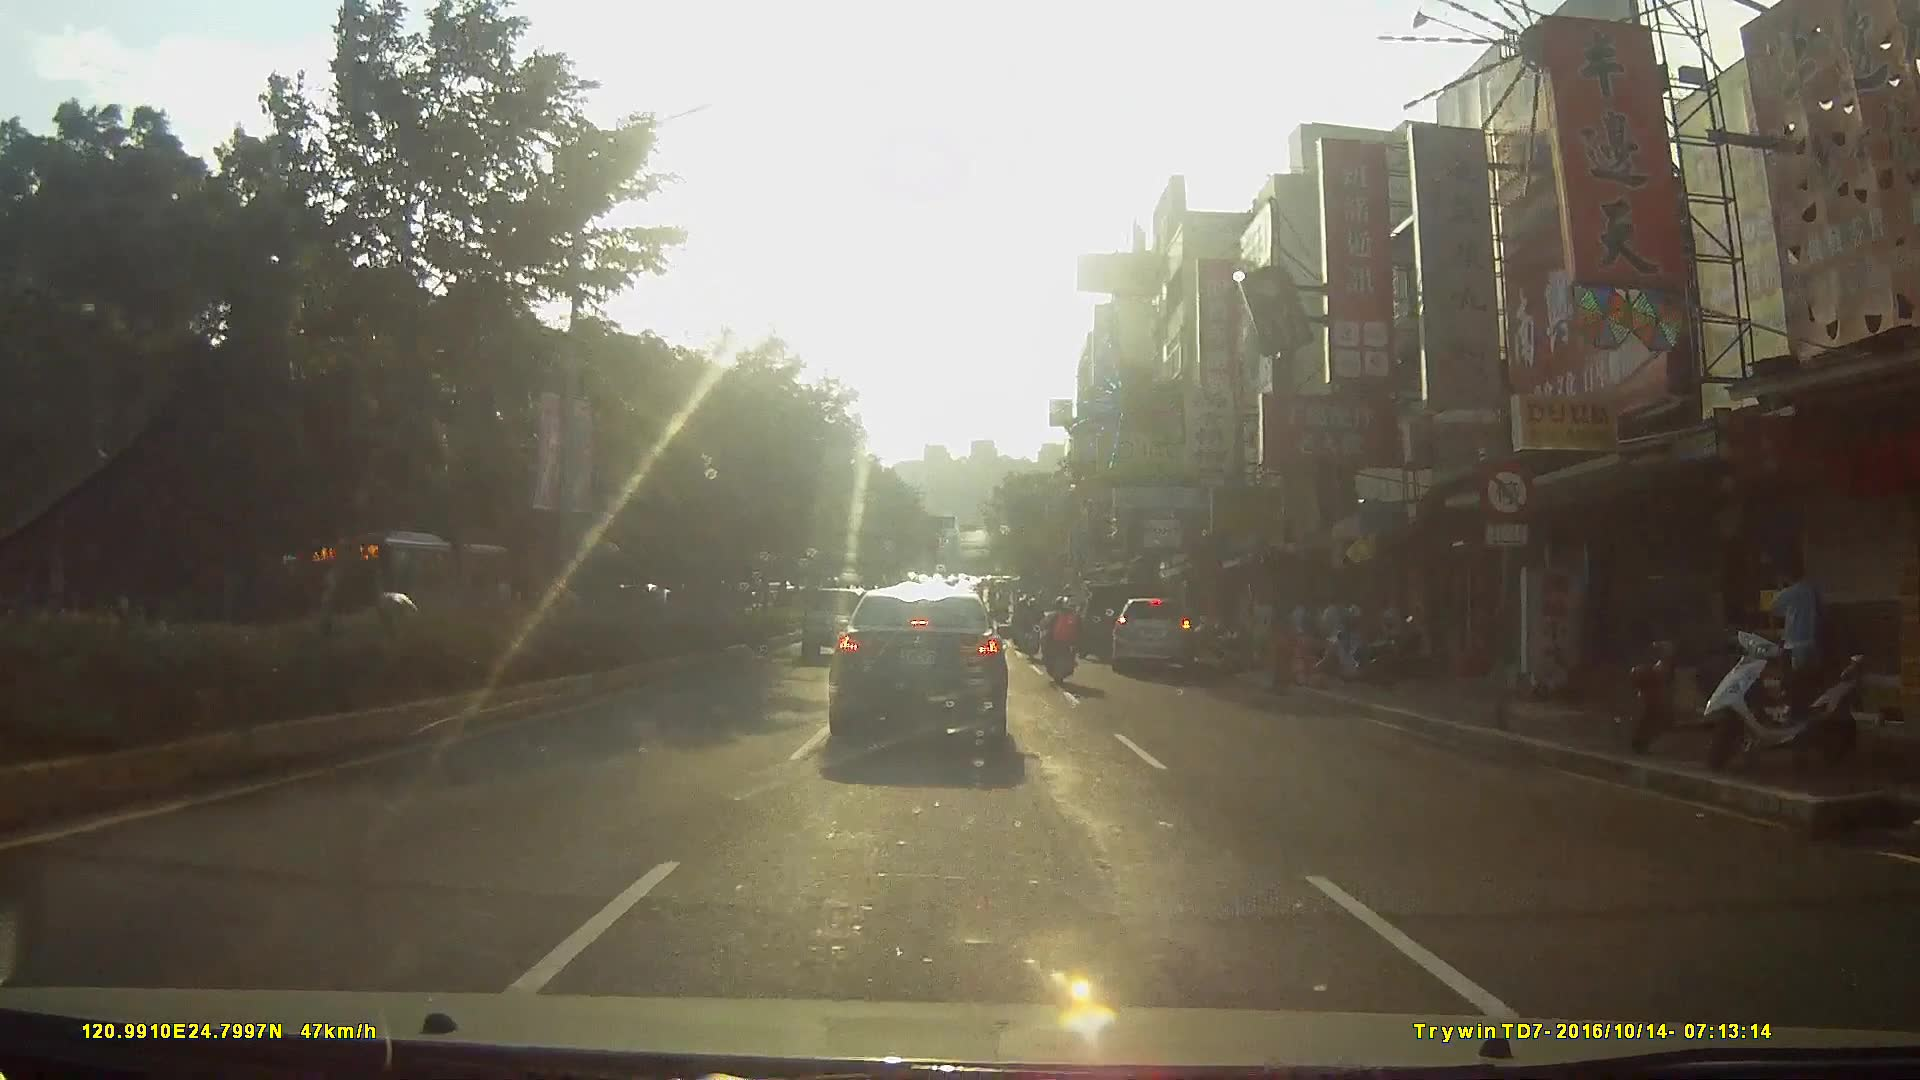pedestrian: (1765, 566, 1820, 730)
rider: (1047, 602, 1091, 700), (1017, 598, 1043, 662)
vehicle: (826, 588, 1031, 762), (292, 536, 513, 658), (1115, 597, 1205, 681)
